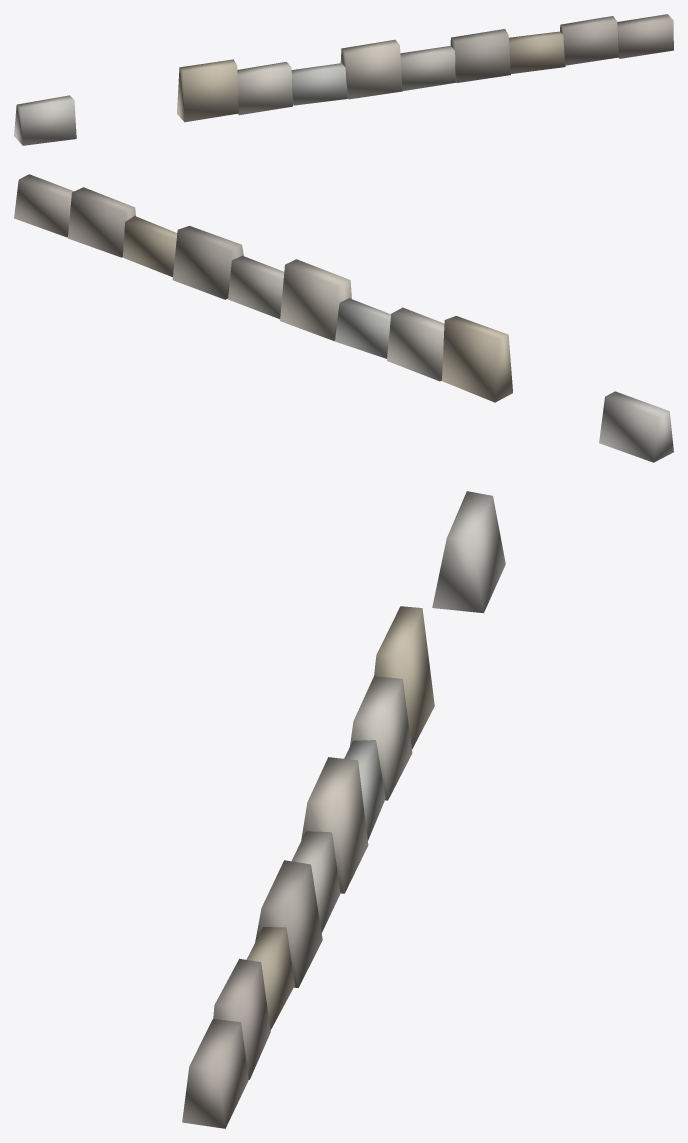
The model's file is farm_23_38_far.glb.
3 renders of one model, top to bottom at view 1: azimuth 30°, elevation 25°; view 2: azimuth 150°, elevation 25°; view 3: azimuth 270°, elevation 25°, orthographic. The views are drawn at different scales.
Visible parts, largest first — view 1: geometry_0; view 2: geometry_0; view 3: geometry_0.
Part boxes in pixels (x1=…): geometry_0: x1=14, y1=14, x2=673, y2=145; geometry_0: x1=14, y1=174, x2=673, y2=462; geometry_0: x1=182, y1=491, x2=505, y2=1128.
Bounding box in the file's own units: 18.88 × 1.51 × 4.51.
